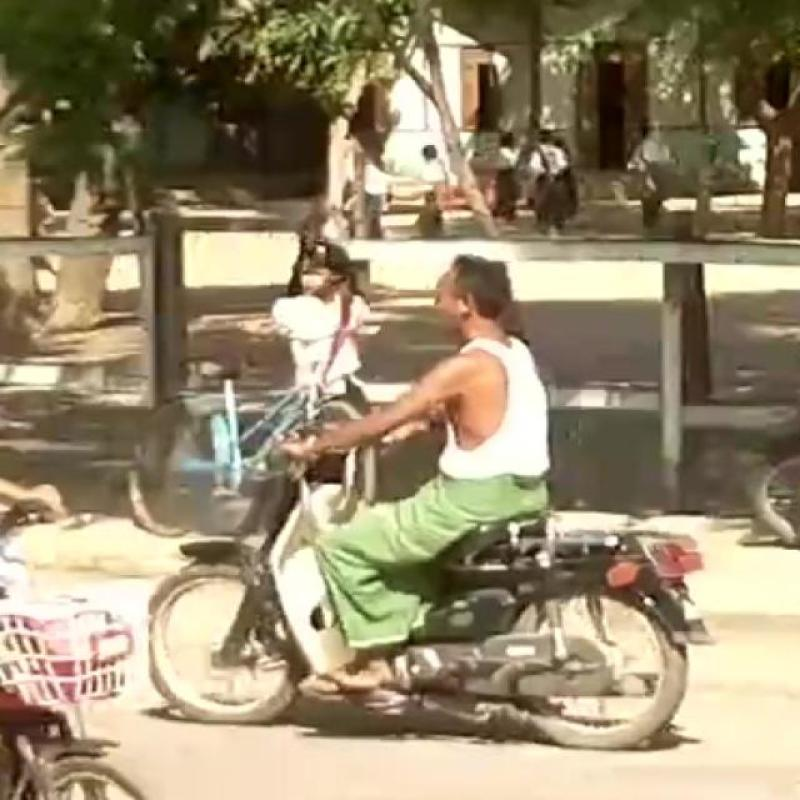nohelmet: (413, 254, 539, 342)
